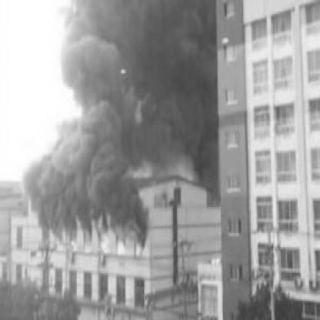Smoke: (37, 0, 135, 204), (139, 0, 217, 152)
